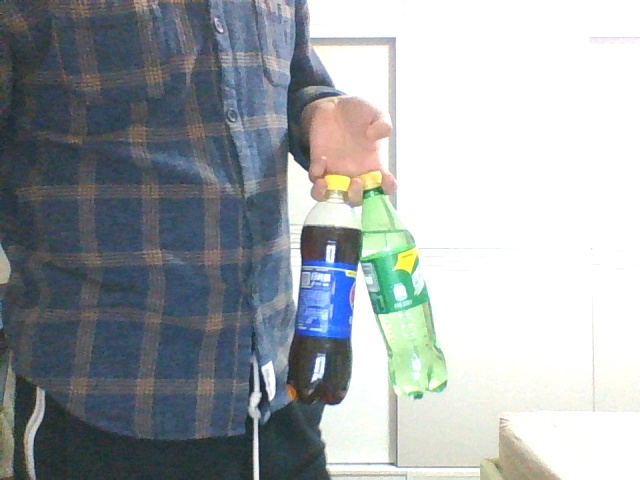Cola: (287, 173, 361, 405)
Sprite: (357, 171, 450, 401)
